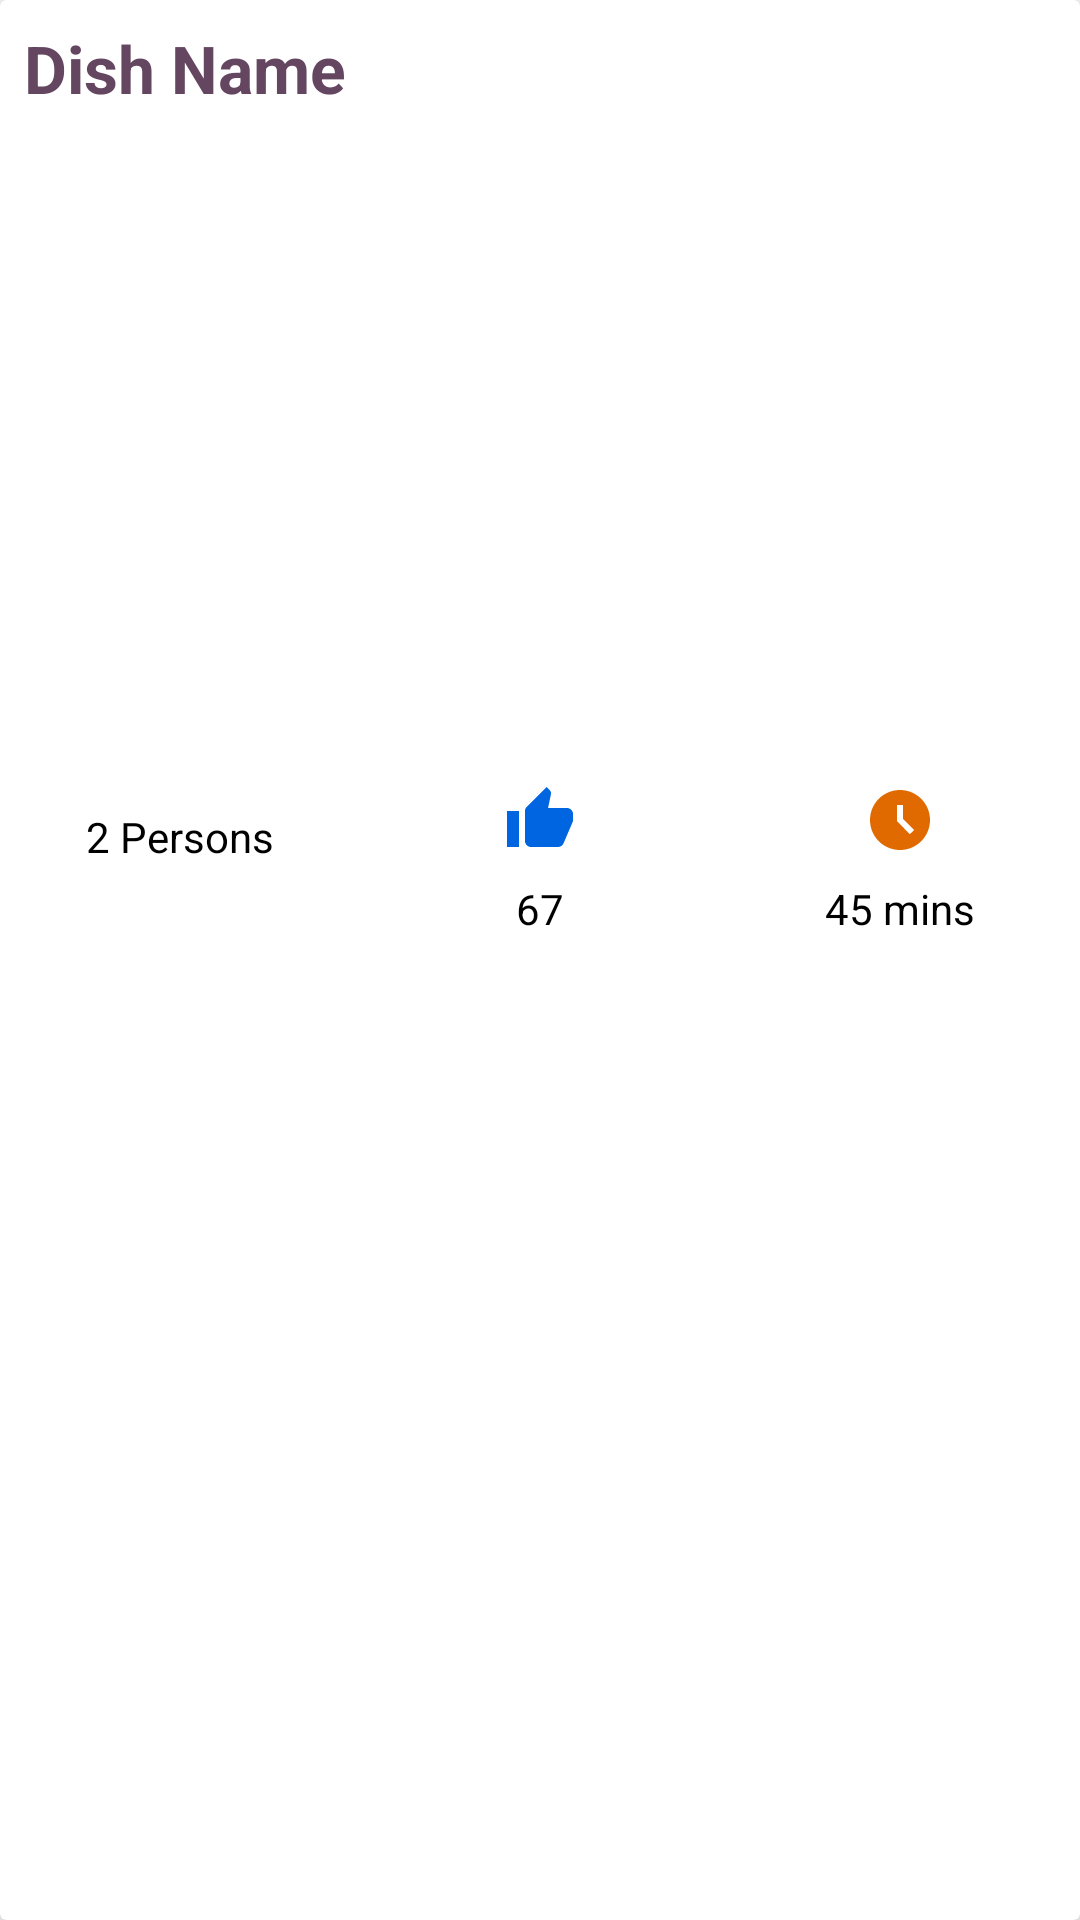

Icon click points for this 1080px×1920px phone screenshot, format point (x, y):
like: point (540, 817)
time: point (900, 820)
